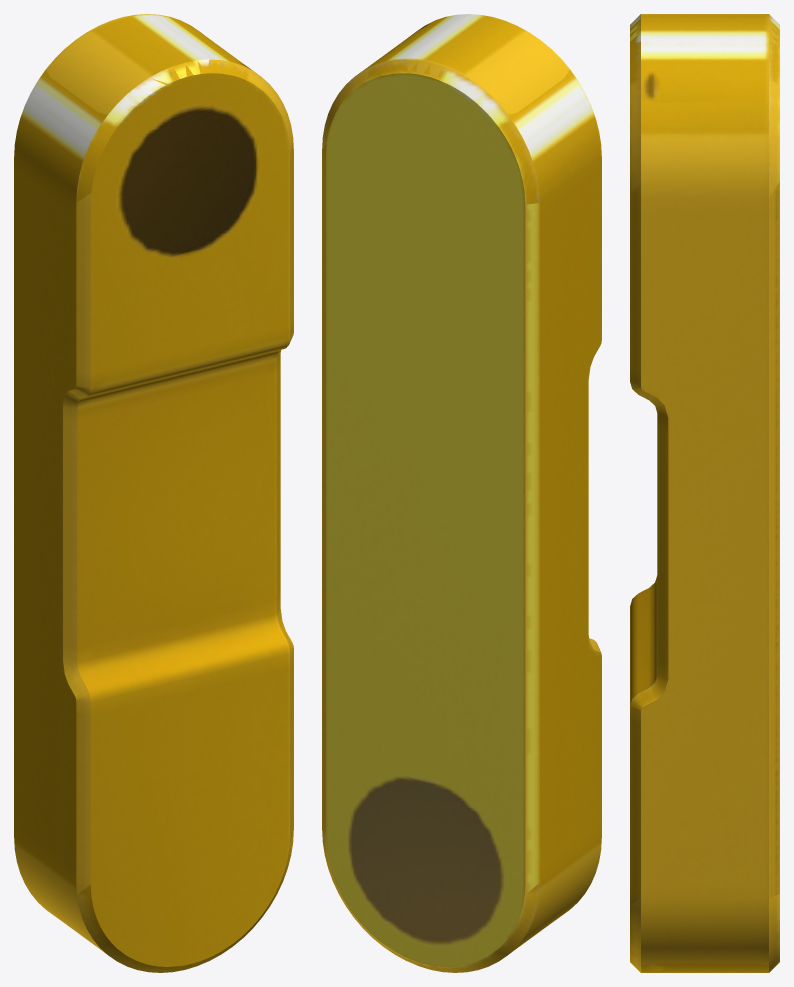
Rendered from upper_arm.dae.
3 views of the same model, side by side, from view 1: azimuth 30°, elevation 25°; view 2: azimuth 150°, elevation 25°; view 3: azimuth 270°, elevation 25° (orthographic). The views are drawn at different scales.
Parts seen in each view (by area): view 1: simple_mesh_arm_01; view 2: simple_mesh_arm_01; view 3: simple_mesh_arm_01.
Part boxes in pixels (<box>): simple_mesh_arm_01: <box>14,14,293,972</box>; simple_mesh_arm_01: <box>322,14,601,972</box>; simple_mesh_arm_01: <box>630,14,779,972</box>.
Size of the model in its own units: 95 by 55 by 378.
1 material, 1 textured.
